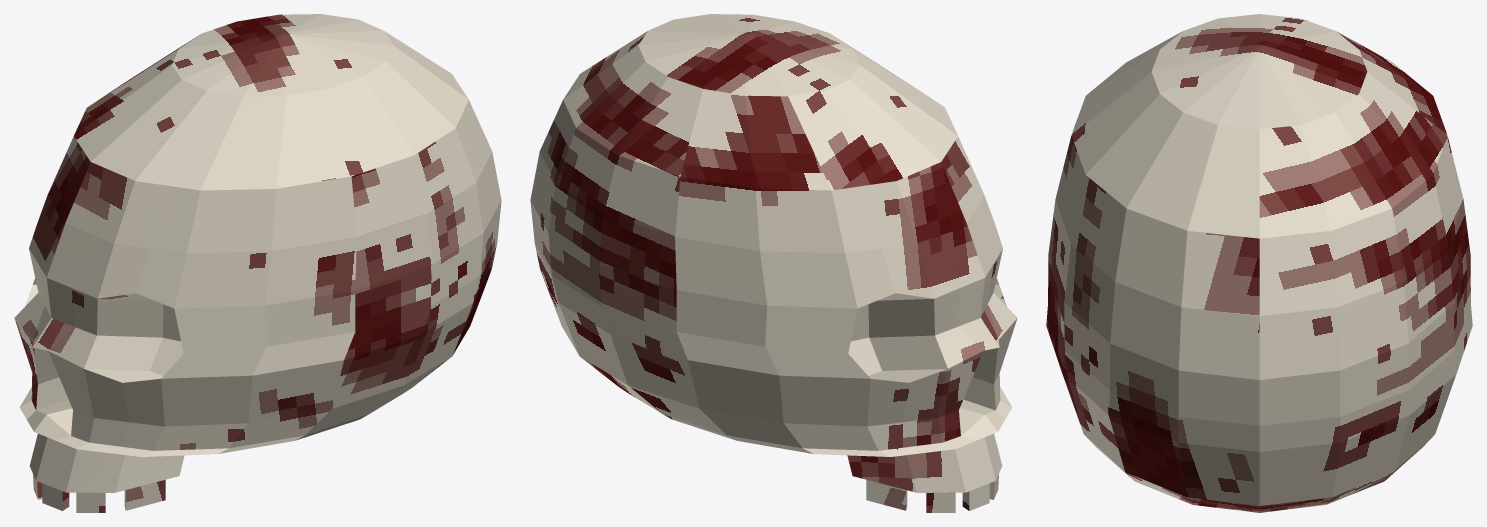
Rendered from HumanSkull.fbx.
3 renders of one model, left to right at view 1: azimuth 30°, elevation 25°; view 2: azimuth 150°, elevation 25°; view 3: azimuth 270°, elevation 25°, orthographic. The views are drawn at different scales.
Parts seen in each view (by area): view 1: Skull; view 2: Skull; view 3: Skull.
Part boxes in pixels (x1,y1,x2,y2): Skull: (14, 14, 501, 512); Skull: (530, 14, 1017, 512); Skull: (1046, 14, 1472, 512).
Size of the model in its own units: 324 by 280 by 226.
